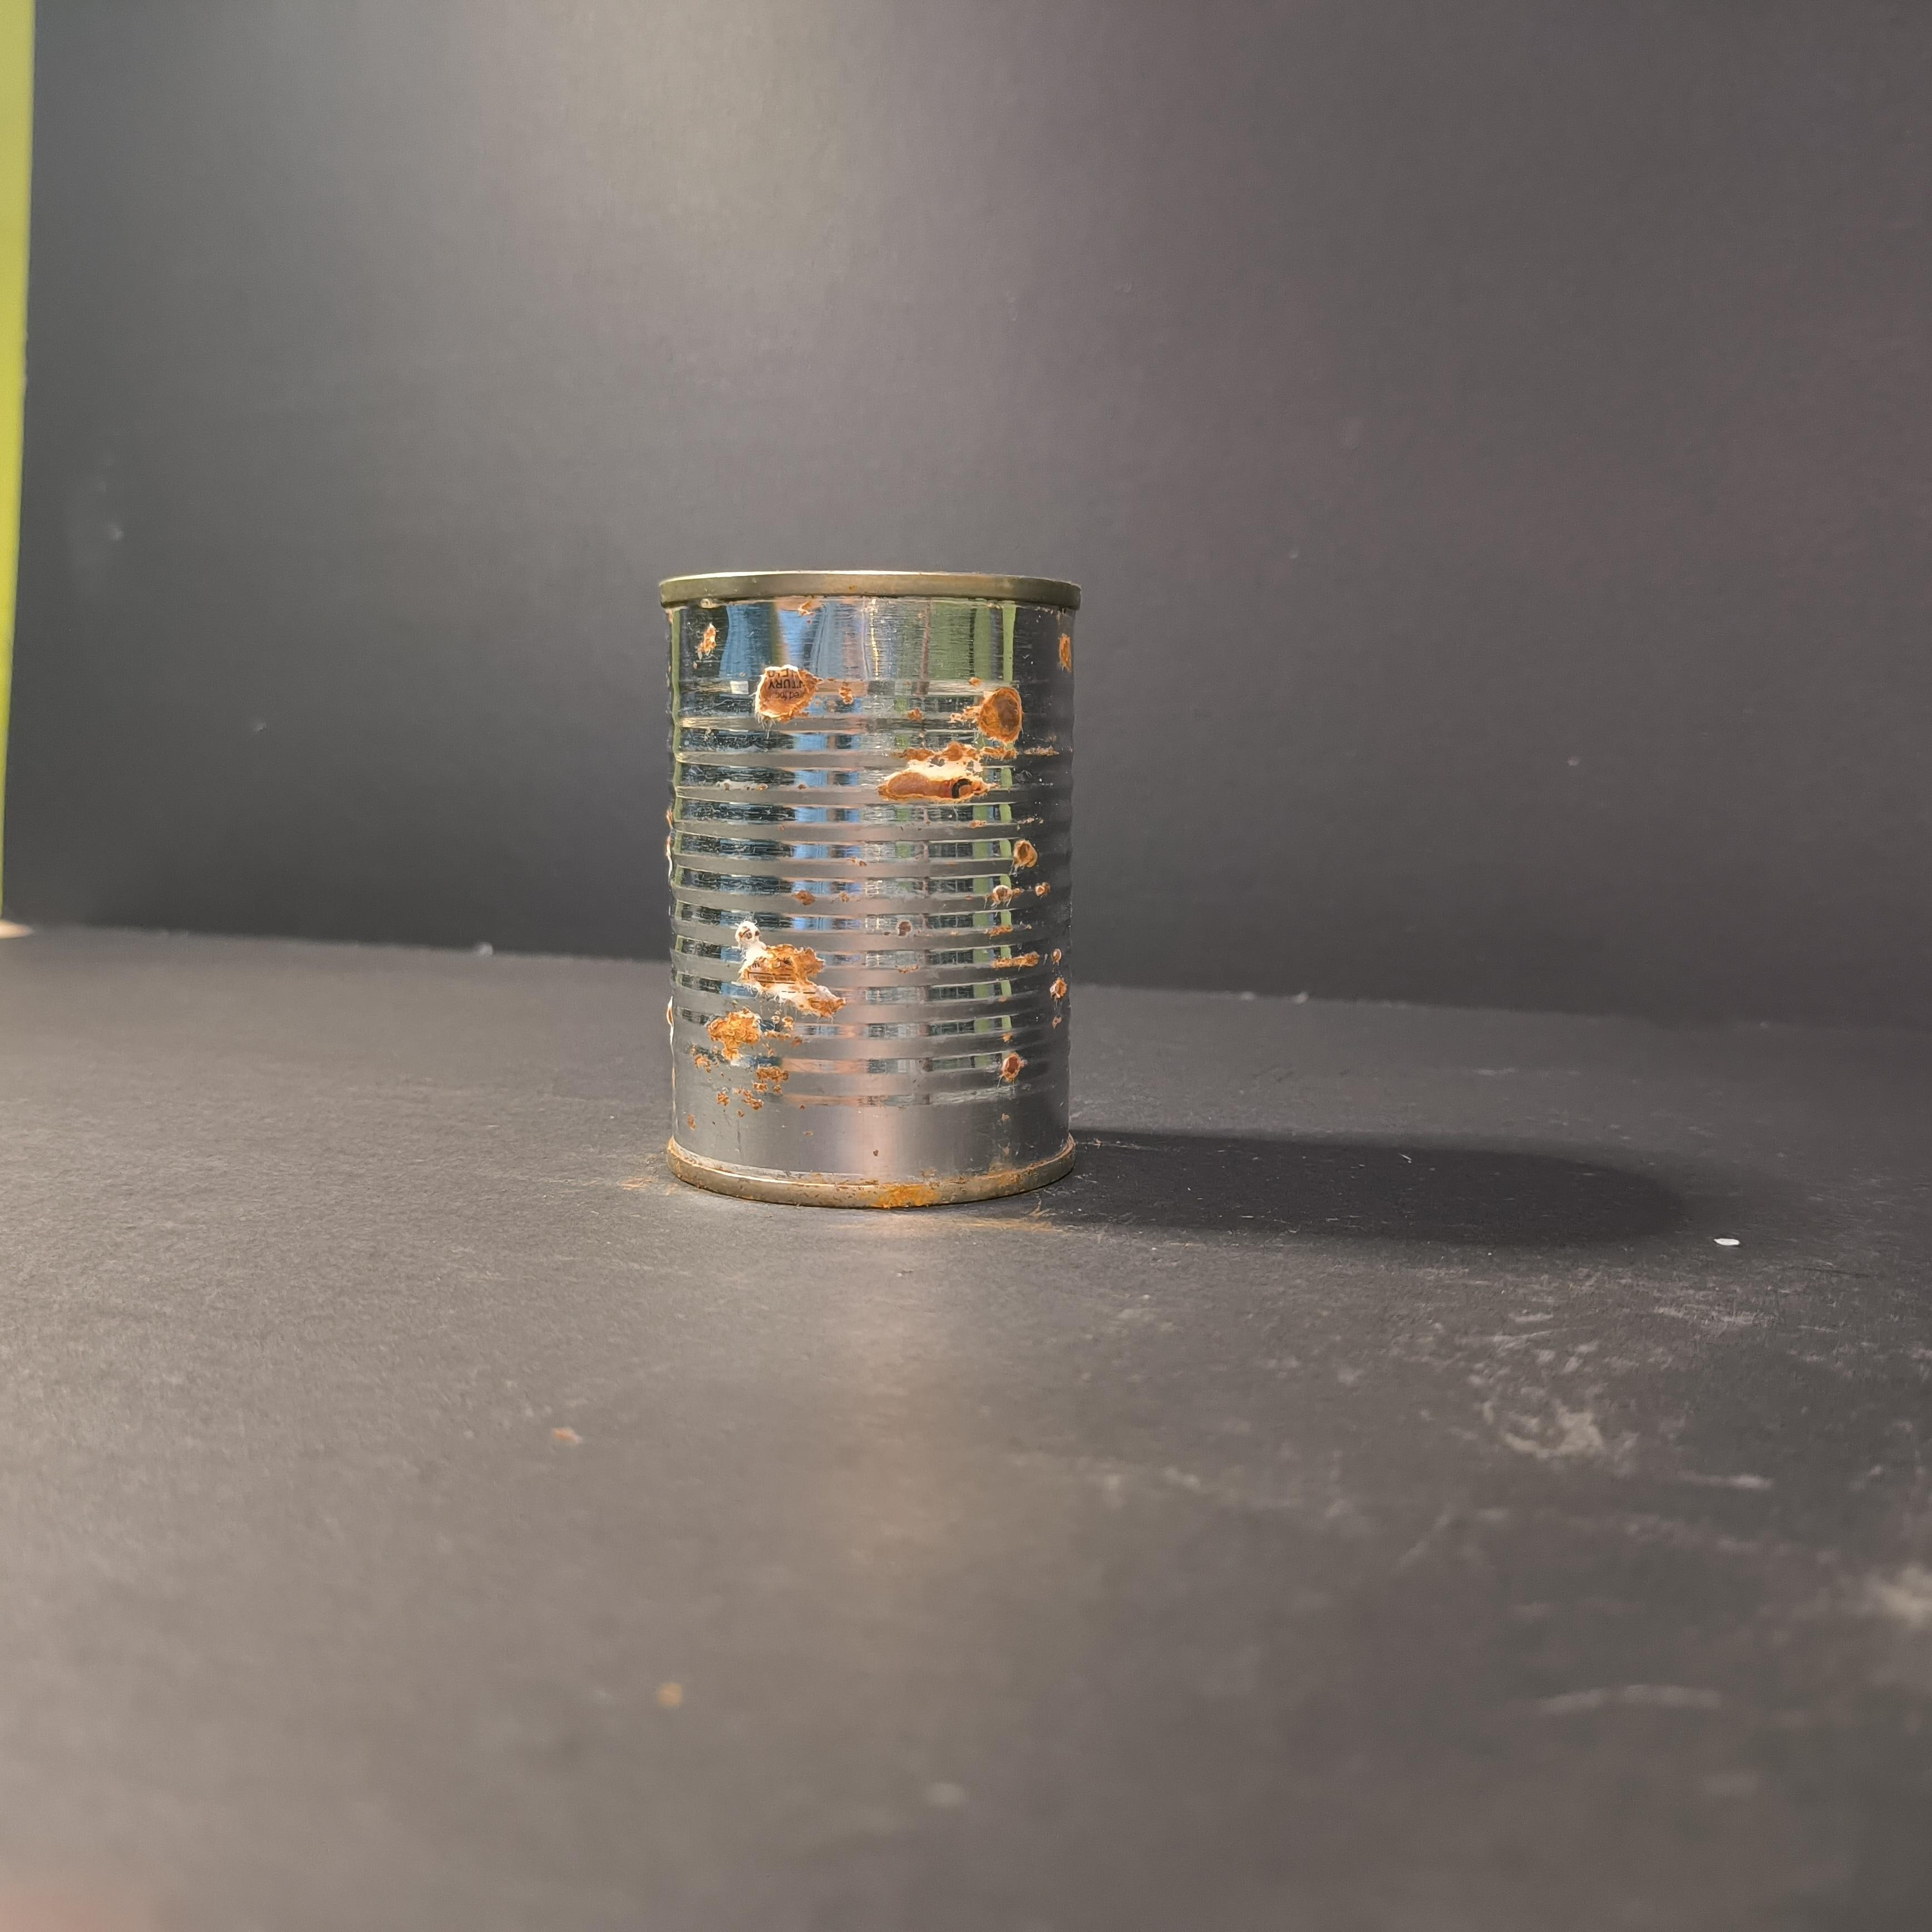Rusted: (648, 554, 1093, 1228)
